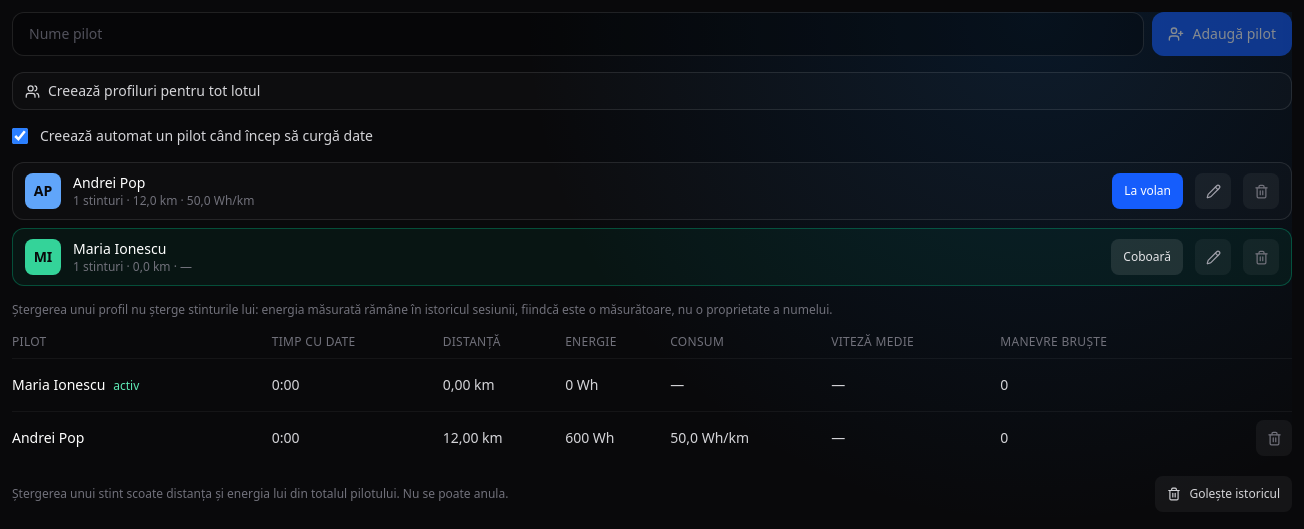
Scenario: DriverPanel — ștergerea stinturilor › nu șterge la prima apăsare, ci cere confirmare
Step 1. Click the button named "Șterge stintul" → (1274, 438), box [1256,420,1292,456]
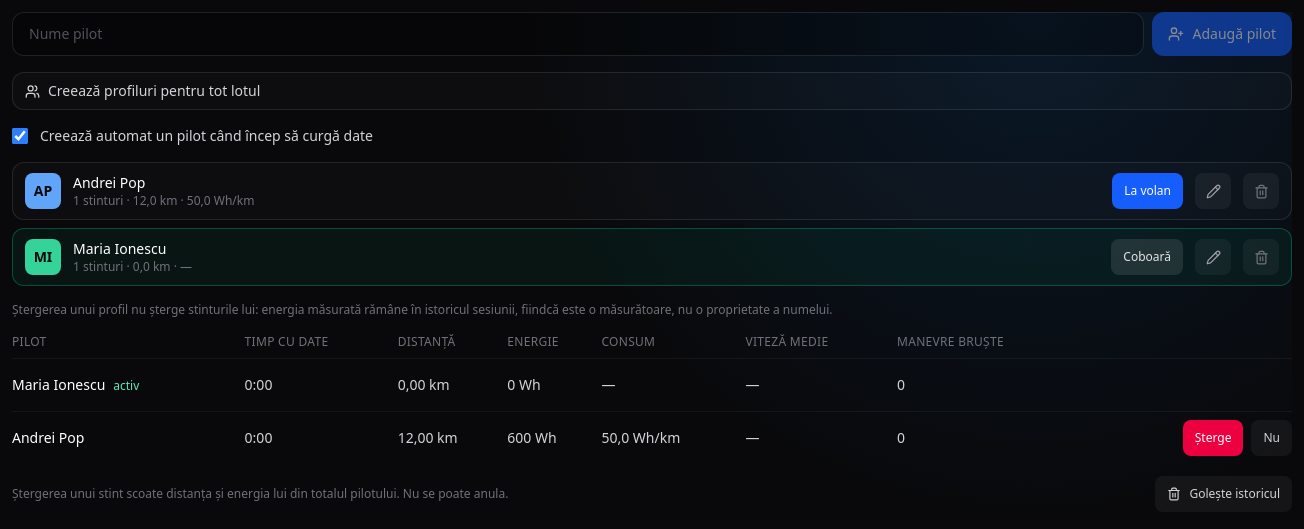
Expected: the button "Șterge" is shown, [1183,420,1244,456]
